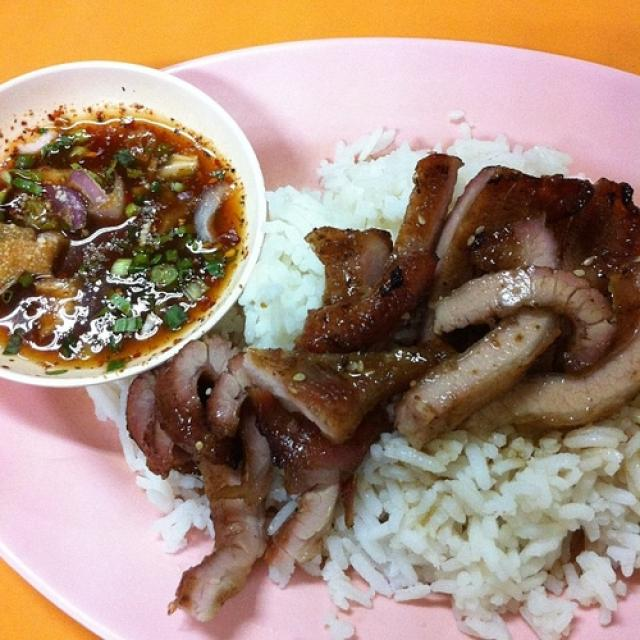猪肉菜式: (19, 34, 627, 620)
